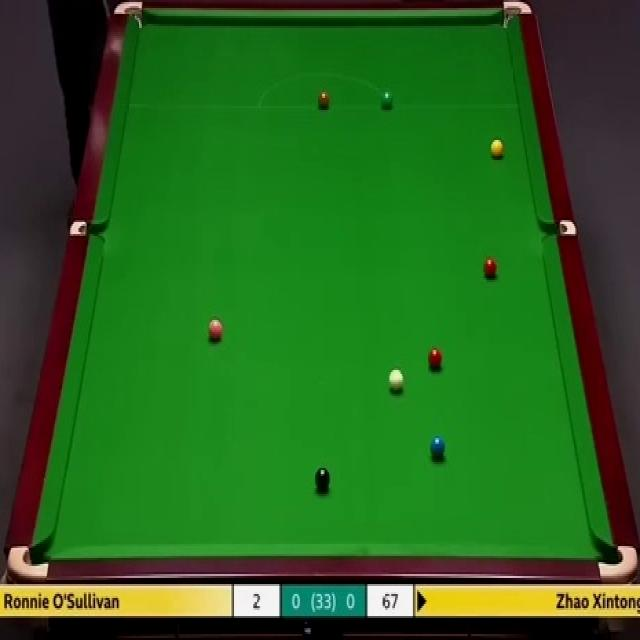pocket: (597, 542, 640, 584), (10, 543, 48, 585), (116, 2, 150, 36), (502, 0, 532, 32), (540, 218, 576, 237), (67, 220, 105, 235)
